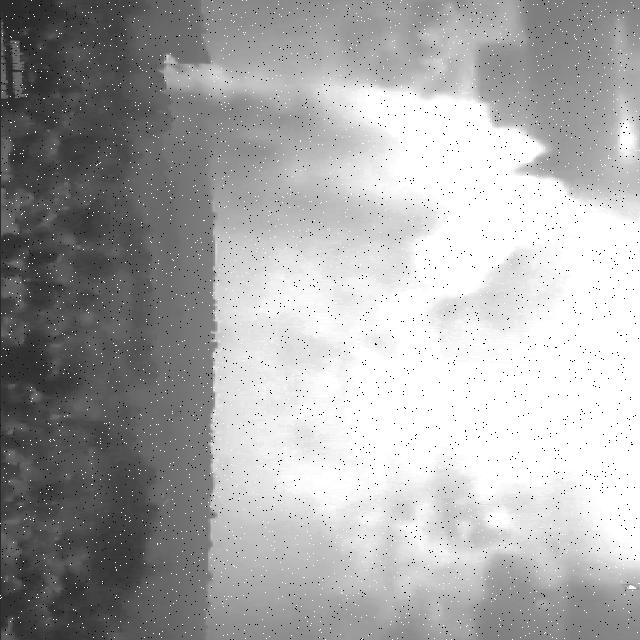asap: (143, 42, 595, 346)
